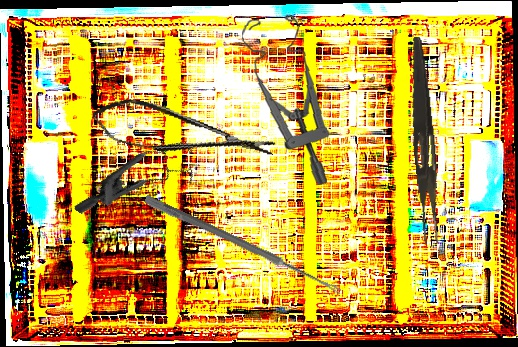Dressing Forceps: (402, 36, 446, 245)
Micro Scissor: (88, 90, 278, 177)
Speculum: (72, 110, 209, 255), (231, 11, 339, 186)
Surgical Spoon: (143, 194, 343, 296)
